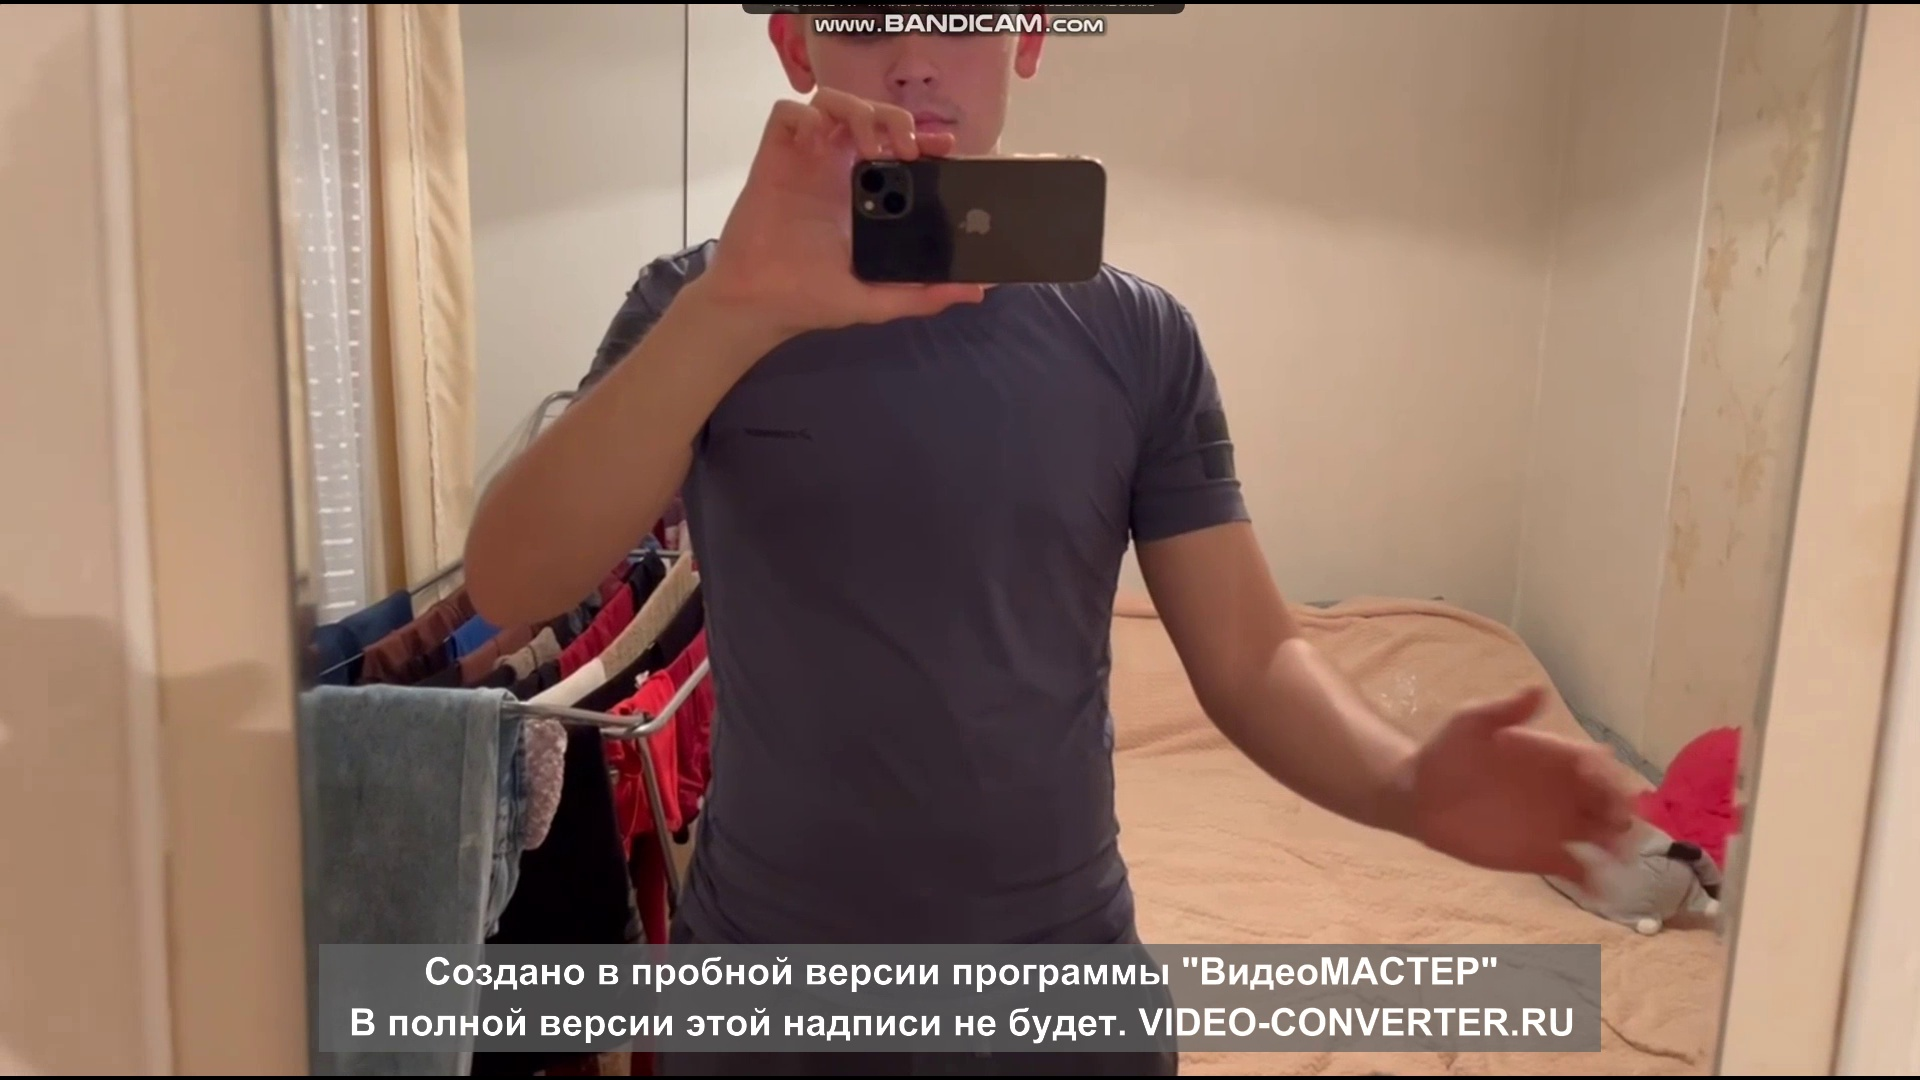Ладонь: (1424, 684, 1634, 893)
